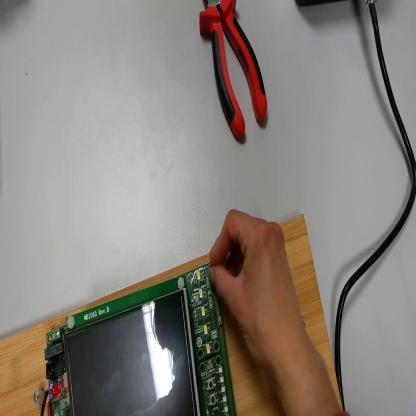hand: (210, 209, 305, 368)
low voltage board: (41, 262, 238, 416)
pliers: (201, 1, 269, 144)
working area: (1, 214, 345, 416)
